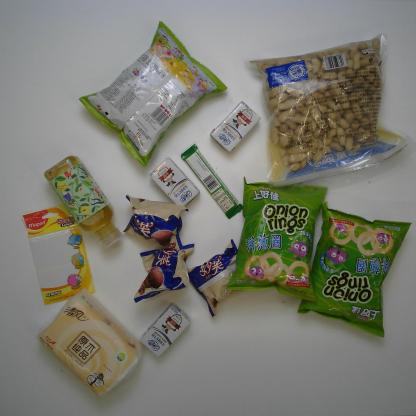Chocolate: (178, 142, 245, 222)
Dessert: (185, 237, 255, 320), (118, 190, 190, 253), (132, 240, 198, 304)
Dried Food: (242, 30, 416, 199)
Drink: (41, 152, 126, 252)
Milk: (138, 300, 192, 359), (208, 100, 262, 156), (147, 156, 202, 209)
Puffed Food: (74, 17, 231, 170), (295, 198, 413, 339), (223, 172, 331, 304)
Stationery: (19, 200, 99, 308)
Tissue: (34, 284, 146, 401)
